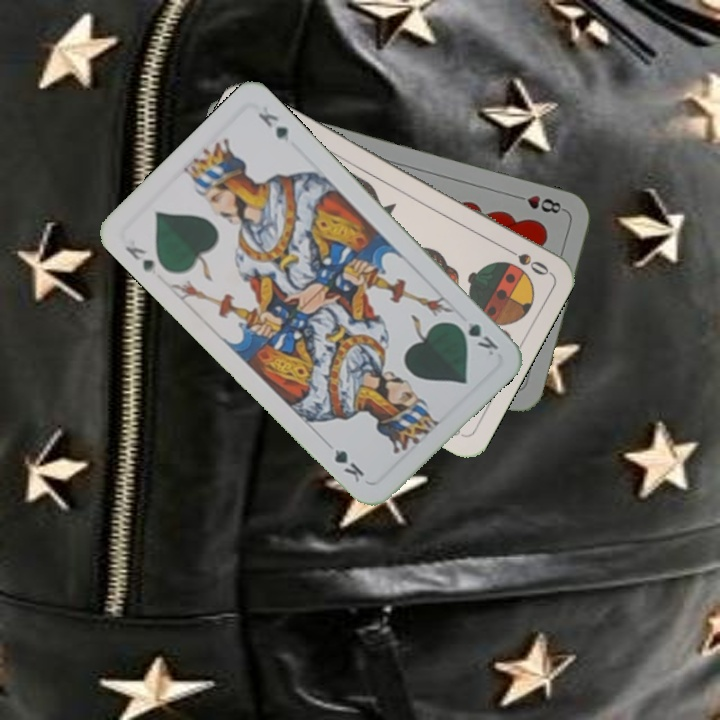GK: (450, 318, 502, 359), (120, 242, 158, 276)
H8: (510, 191, 568, 217)
SO: (498, 241, 552, 279)
